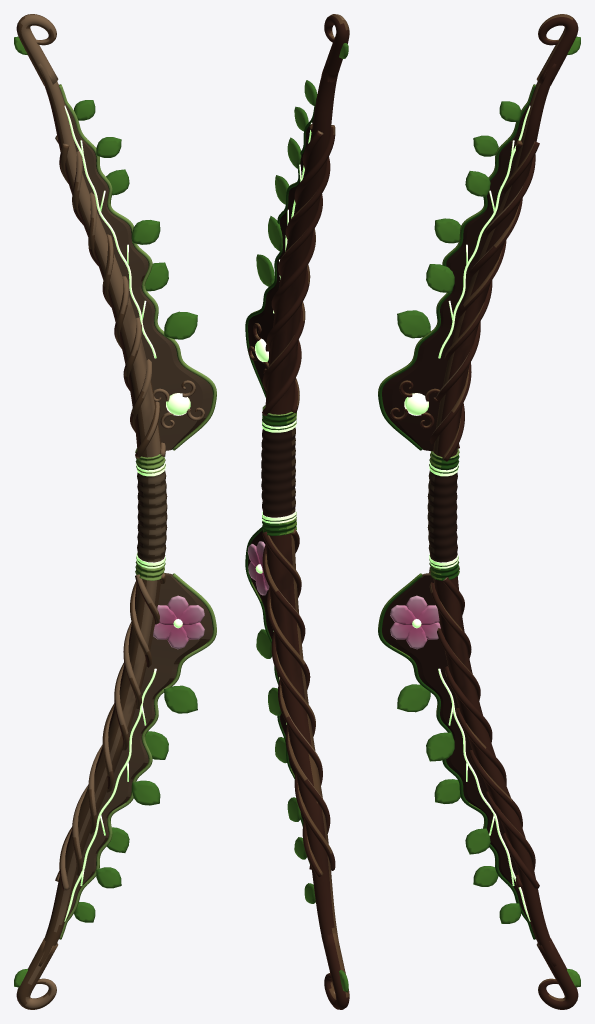
The model's file is bw_root_bow.glb.
3 renders of one model, left to right at view 1: azimuth 90°, elevation 25°; view 2: azimuth 210°, elevation 25°; view 3: azimuth 270°, elevation 25°, orthographic.
Visible parts, largest first — view 1: Weapon; view 2: Weapon; view 3: Weapon.
Boxes of the visible parts, <box> form: Weapon: <box>14,14,216,1009</box>; Weapon: <box>245,14,349,1009</box>; Weapon: <box>378,14,580,1009</box>.
Size of the model in its own units: 0.0483 by 1.34 by 0.247.
